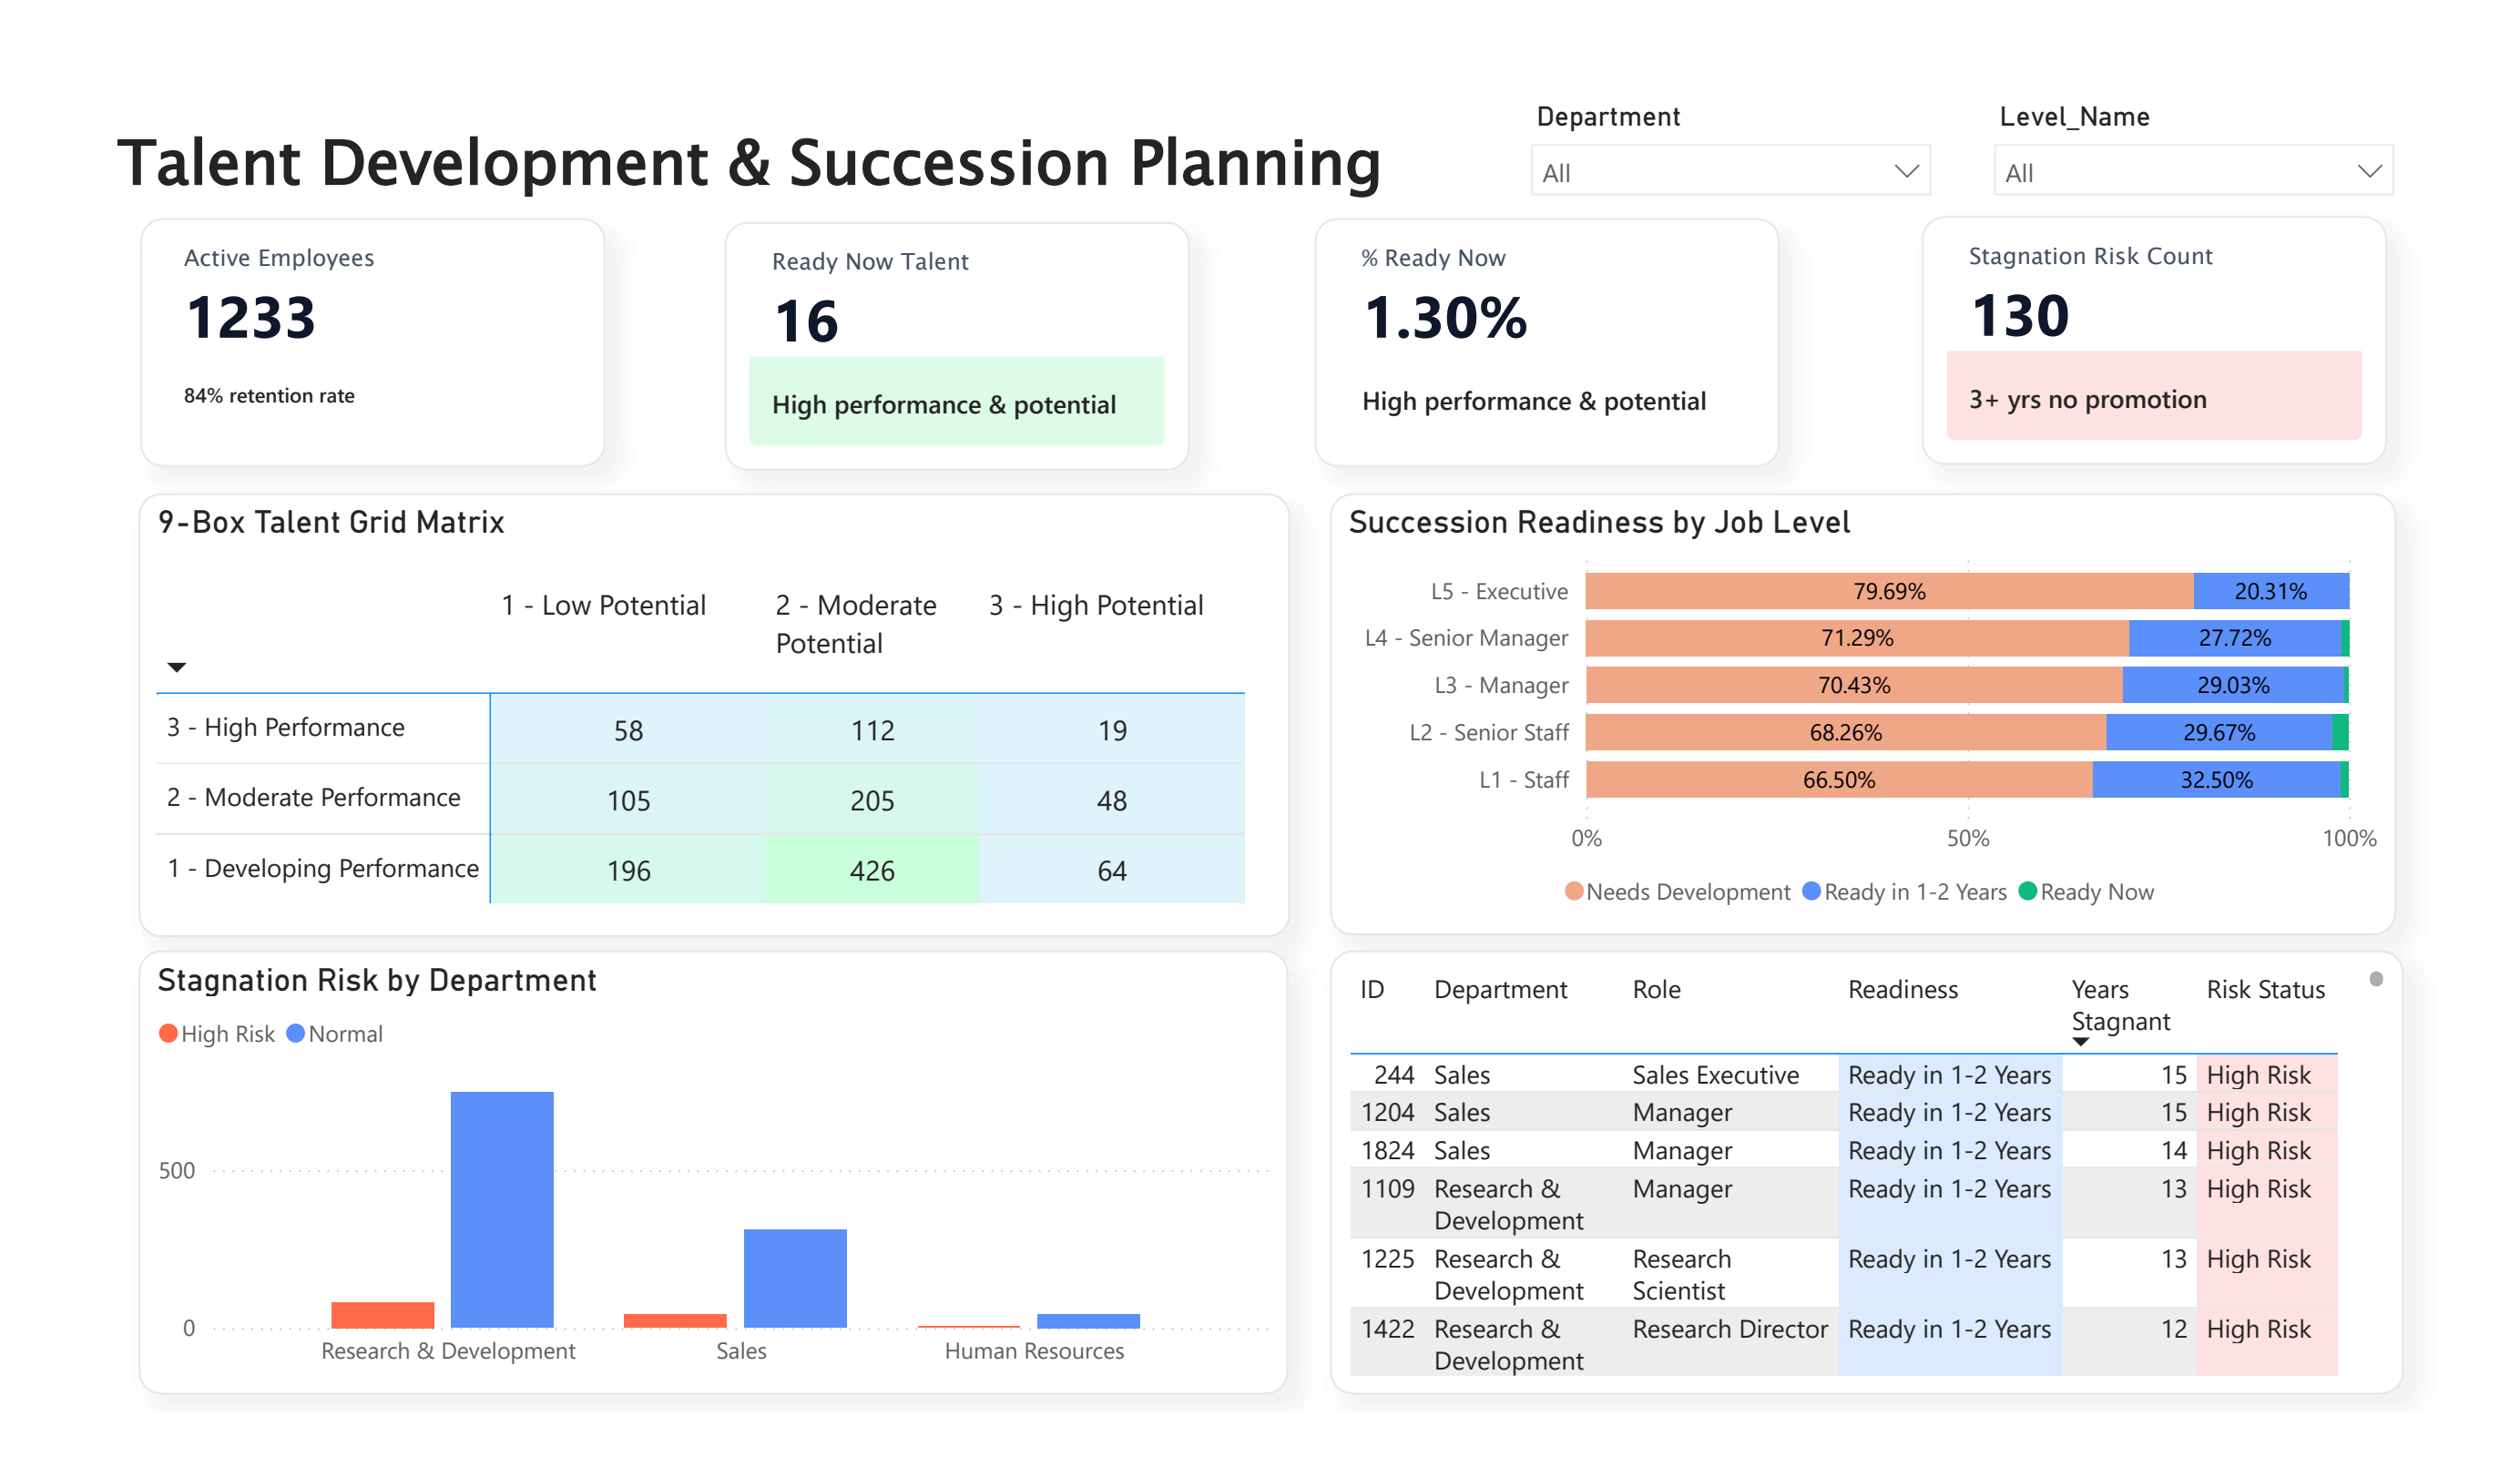

The dashboard page shown, as its layout file describes it:
{"tool":"powerbi","page":{"name":"Page 1","canvas":[1280,720],"ordinal":0},"visuals":[{"type":"textbox","box":[32.5,32.5,681.3,65],"z":0},{"type":"slicer","fields":{"Values":["HR_People_Dev_Ready.Department"]},"box":[773.1,23.6,230.7,74.1],"z":1000},{"type":"slicer","fields":{"Values":["HR_People_Dev_Ready.Level_Name"]},"box":[1017.3,23.6,230.7,70.7],"z":2000},{"type":"cardVisual","fields":{"Data":["HR_People_Dev_Ready.Active Employees"]},"box":[50.3,91.4,245,131],"z":3000},{"type":"cardVisual","fields":{"Data":["HR_People_Dev_Ready.Ready Now Talent"]},"box":[358.1,93,245.3,131],"z":4000},{"type":"cardVisual","fields":{"Data":["HR_People_Dev_Ready.% Ready Now"]},"box":[669,91.4,245.3,131],"z":5000},{"type":"cardVisual","fields":{"Data":["HR_People_Dev_Ready.Stagnation Risk Count"]},"box":[989,89.9,245.3,131],"z":6000},{"type":"pivotTable","title":"9-Box Talent Grid Matrix","fields":{"Rows":["HR_People_Dev_Ready.Performance_Tier"],"Values":["HR_People_Dev_Ready.Active Employees"],"Columns":["HR_People_Dev_Ready.Potential_Tier"]},"box":[48.8,235.9,606.9,234],"z":7000},{"type":"hundredPercentStackedBarChart","title":"Succession Readiness by Job Level","fields":{"Category":["HR_People_Dev_Ready.Level_Name"],"Y":["HR_People_Dev_Ready.Active Employees"],"Series":["HR_People_Dev_Ready.Succession_Readiness"]},"box":[676.6,235.7,562.1,233.8],"z":8000},{"type":"tableEx","fields":{"Values":["HR_People_Dev_Ready.EmployeeNumber","HR_People_Dev_Ready.Department","HR_People_Dev_Ready.JobRole","HR_People_Dev_Ready.Succession_Readiness","HR_People_Dev_Ready.YearsSinceLastPromotion","HR_People_Dev_Ready.Stagnation_Risk_Flag"]},"box":[676.9,476.7,566.2,234.3],"z":9000},{"type":"clusteredColumnChart","title":"Stagnation Risk by Department","fields":{"Category":["HR_People_Dev_Ready.Department"],"Y":["HR_People_Dev_Ready.Active Employees"],"Series":["HR_People_Dev_Ready.Stagnation_Risk_Flag"]},"box":[49,477,606,234],"z":10000}]}

Visuals, with their boxes on the page's 1280x720 design canvas (x1, y1, x2, y2). These are canvas units, not pixel positions in the 2520x1457 screenshot, which may show the page scaled, cropped or inside an application window:
textbox: select_region(32, 32, 714, 98)
slicer - HR_People_Dev_Ready.Department: select_region(773, 24, 1004, 98)
slicer - HR_People_Dev_Ready.Level_Name: select_region(1017, 24, 1248, 94)
cardVisual - HR_People_Dev_Ready.Active Employees: select_region(50, 91, 295, 222)
cardVisual - HR_People_Dev_Ready.Ready Now Talent: select_region(358, 93, 603, 224)
cardVisual - HR_People_Dev_Ready.% Ready Now: select_region(669, 91, 914, 222)
cardVisual - HR_People_Dev_Ready.Stagnation Risk Count: select_region(989, 90, 1234, 221)
"9-Box Talent Grid Matrix" pivotTable: select_region(49, 236, 656, 470)
"Succession Readiness by Job Level" hundredPercentStackedBarChart: select_region(677, 236, 1239, 470)
tableEx - HR_People_Dev_Ready.EmployeeNumber x HR_People_Dev_Ready.Department: select_region(677, 477, 1243, 711)
"Stagnation Risk by Department" clusteredColumnChart: select_region(49, 477, 655, 711)
